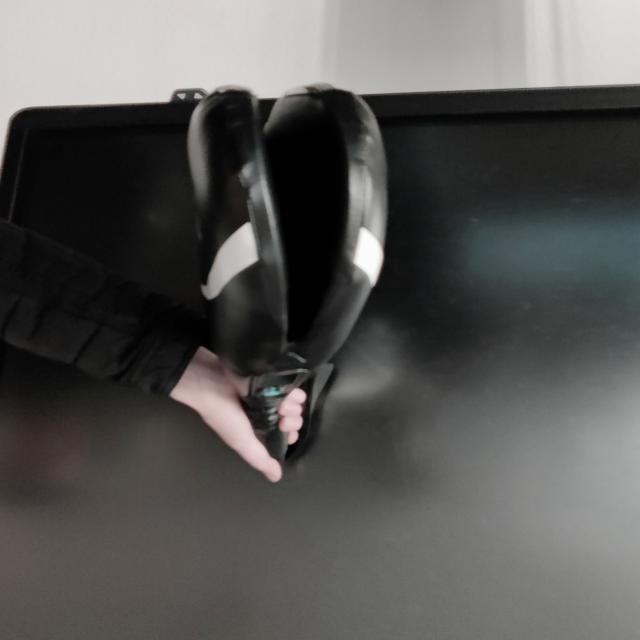paddle: (178, 84, 394, 438)
